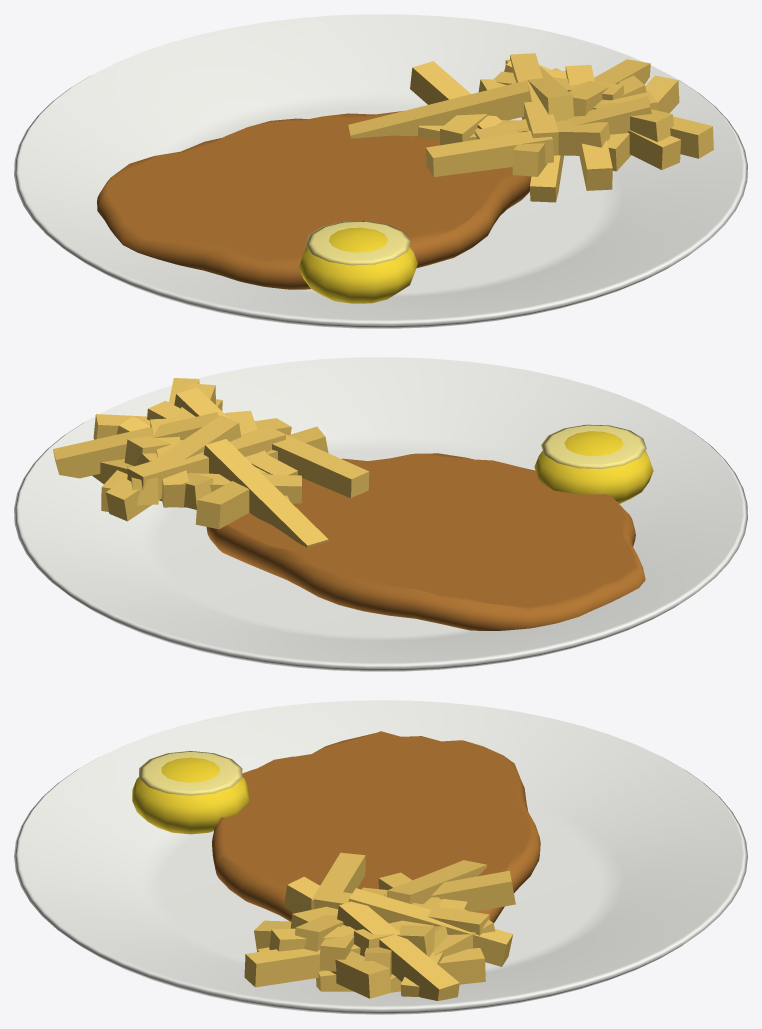
The model's file is milanesa.glb.
3 renders of one model, top to bottom at view 1: azimuth 30°, elevation 25°; view 2: azimuth 150°, elevation 25°; view 3: azimuth 270°, elevation 25°, orthographic.
Visible parts, largest first — view 1: milanesa; view 2: milanesa; view 3: milanesa.
Boxes of the visible parts, <box> form: milanesa: <box>14,14,747,328</box>; milanesa: <box>14,357,747,671</box>; milanesa: <box>14,700,747,1014</box>.
Size of the model in its own units: 0.27 by 0.0383 by 0.27.
